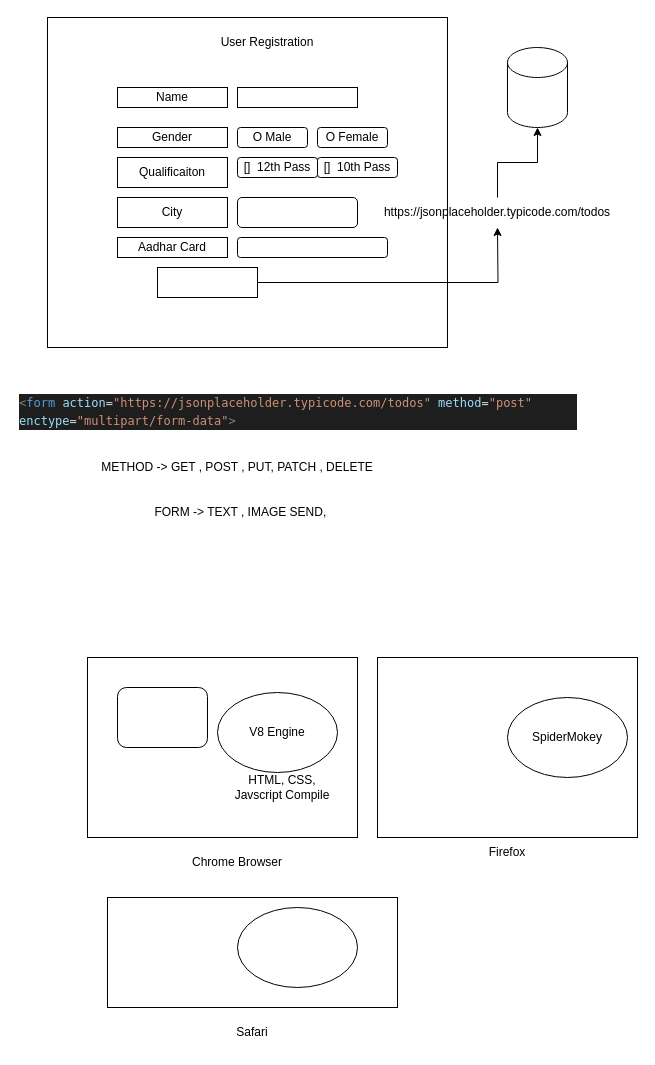
Image size: 655x1065. Some labels were removed from this diagram. The box of each missing label's shape, as (x1, y1, x2, y2) in pixels:
Databse: (506, 46, 568, 128)
Dropdown menu: (236, 196, 358, 228)
local Storage: (116, 686, 208, 748)
Submit Form: (156, 266, 258, 298)
Upload image/file: (236, 236, 388, 258)
